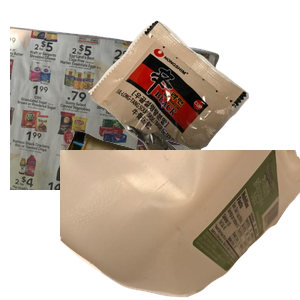glass: (60, 128, 300, 300)
paper: (10, 21, 222, 201)
plastic: (60, 150, 300, 300)
trash: (86, 18, 300, 194)
